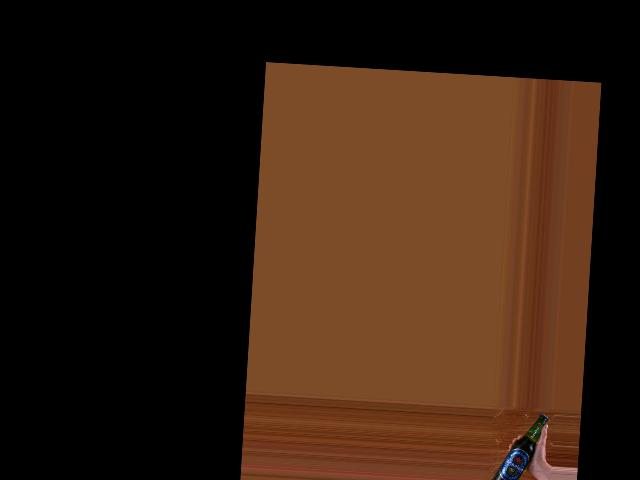beer: (490, 411, 548, 480)
